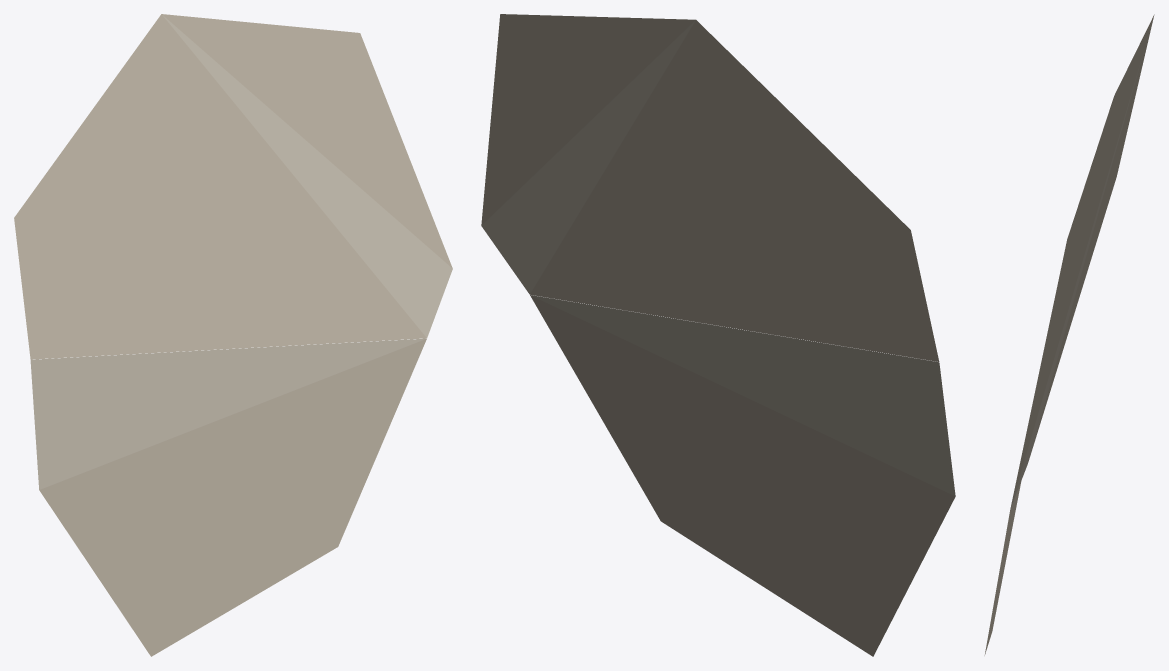
The model's file is SM_MS3_Feed_Eco_00_1.fbx.
3 renders of one model, left to right at view 1: azimuth 30°, elevation 25°; view 2: azimuth 150°, elevation 25°; view 3: azimuth 270°, elevation 25°, orthographic. The views are drawn at different scales.
Parts seen in each view (by area): view 1: SM_MS3_Feed_Eco_00_1; view 2: SM_MS3_Feed_Eco_00_1; view 3: SM_MS3_Feed_Eco_00_1.
Boxes of the visible parts, x1,y1,x2,y2 form: SM_MS3_Feed_Eco_00_1: (14, 14, 452, 656); SM_MS3_Feed_Eco_00_1: (481, 14, 955, 656); SM_MS3_Feed_Eco_00_1: (984, 14, 1154, 655).
Size of the model in its own units: 2.98 by 0.9297 by 4.
